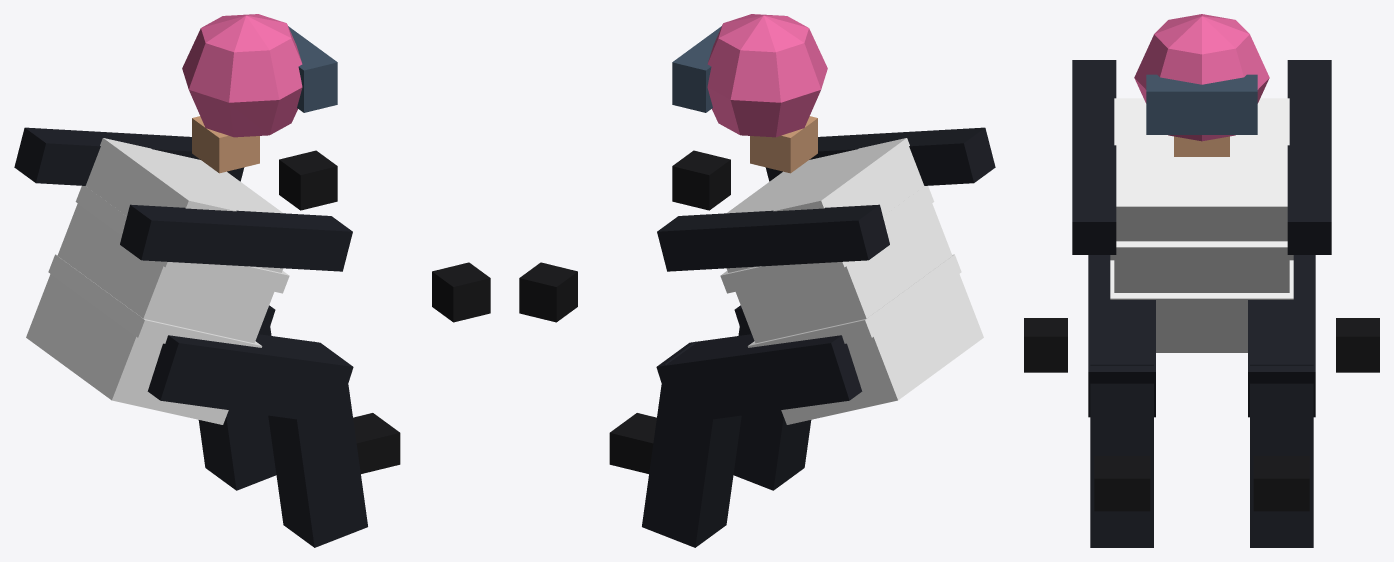
File: jetski_rider_rosa.obj
The picture shows the model from 3 angles, left to right: view 1: azimuth 30°, elevation 25°; view 2: azimuth 150°, elevation 25°; view 3: azimuth 270°, elevation 25°; orthographic projection. The views are drawn at different scales.
Visible parts, largest first — view 1: jetski_rider_rosa; view 2: jetski_rider_rosa; view 3: jetski_rider_rosa.
Boxes of the visible parts, left/top/right/bottom form: jetski_rider_rosa: left=14, top=14, right=490, bottom=547; jetski_rider_rosa: left=519, top=14, right=995, bottom=547; jetski_rider_rosa: left=1024, top=14, right=1379, bottom=547.
Size of the model in its own units: 0.9894 by 1.4 by 0.893.
